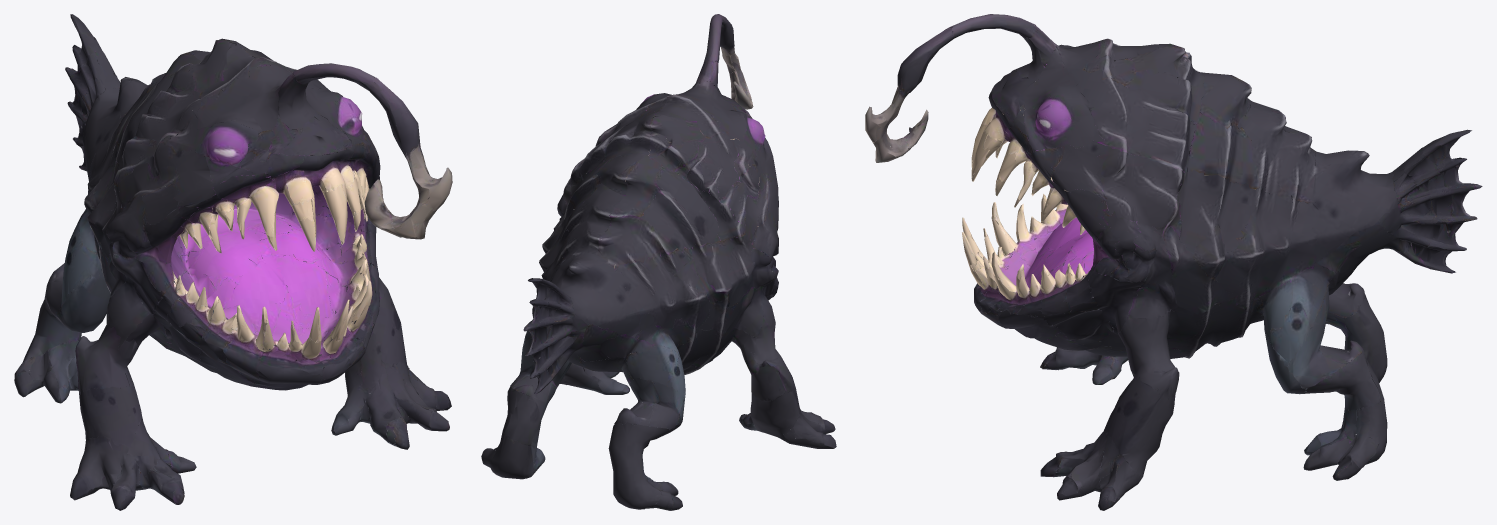
3 renders of one model, left to right at view 1: azimuth 30°, elevation 25°; view 2: azimuth 150°, elevation 25°; view 3: azimuth 270°, elevation 25°, orthographic. The views are drawn at different scales.
Visible parts, largest first — view 1: Mesh_0; view 2: Mesh_0; view 3: Mesh_0.
Boxes of the visible parts, <box> form: Mesh_0: <box>14,14,452,510</box>; Mesh_0: <box>481,14,836,510</box>; Mesh_0: <box>865,14,1482,510</box>.
Size of the model in its own units: 1.31 by 1.42 by 1.9.
1 material, 1 textured.
